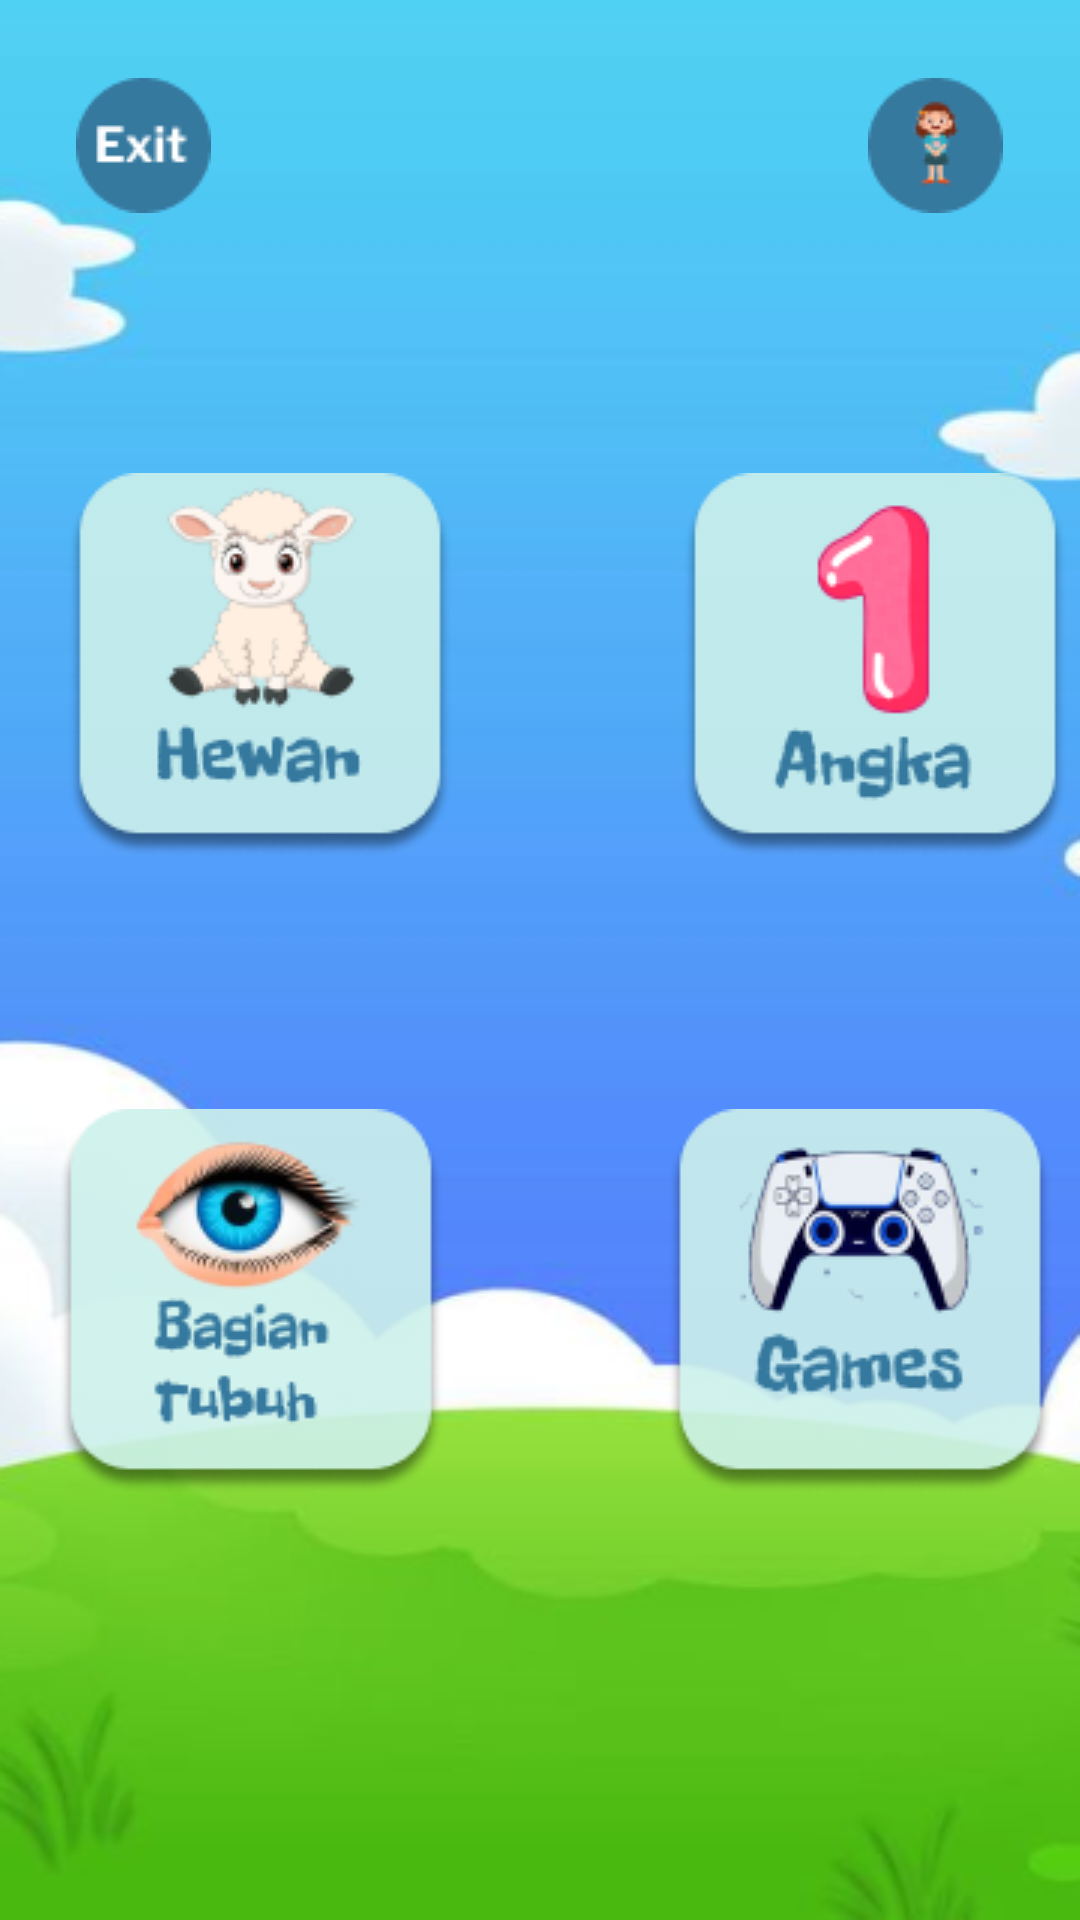

Where to tap for icons on this 1080x1920 app screen, as point (x, y):
profile: point (935, 145)
